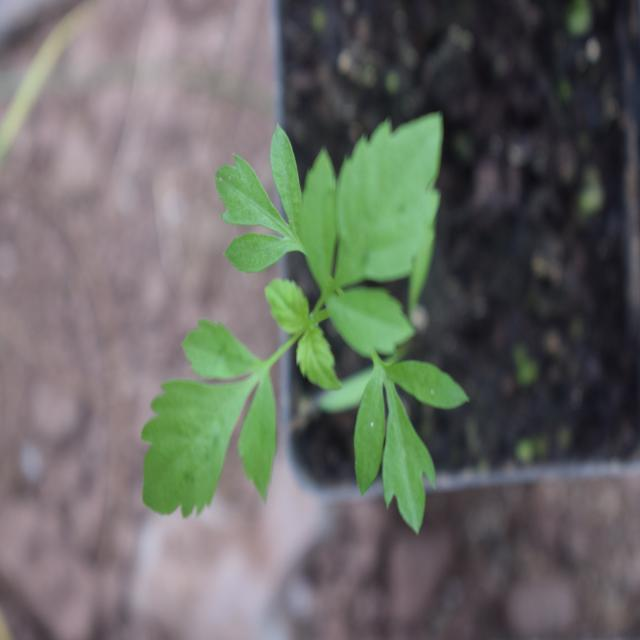Bidens pilosa: (116, 99, 452, 564)
